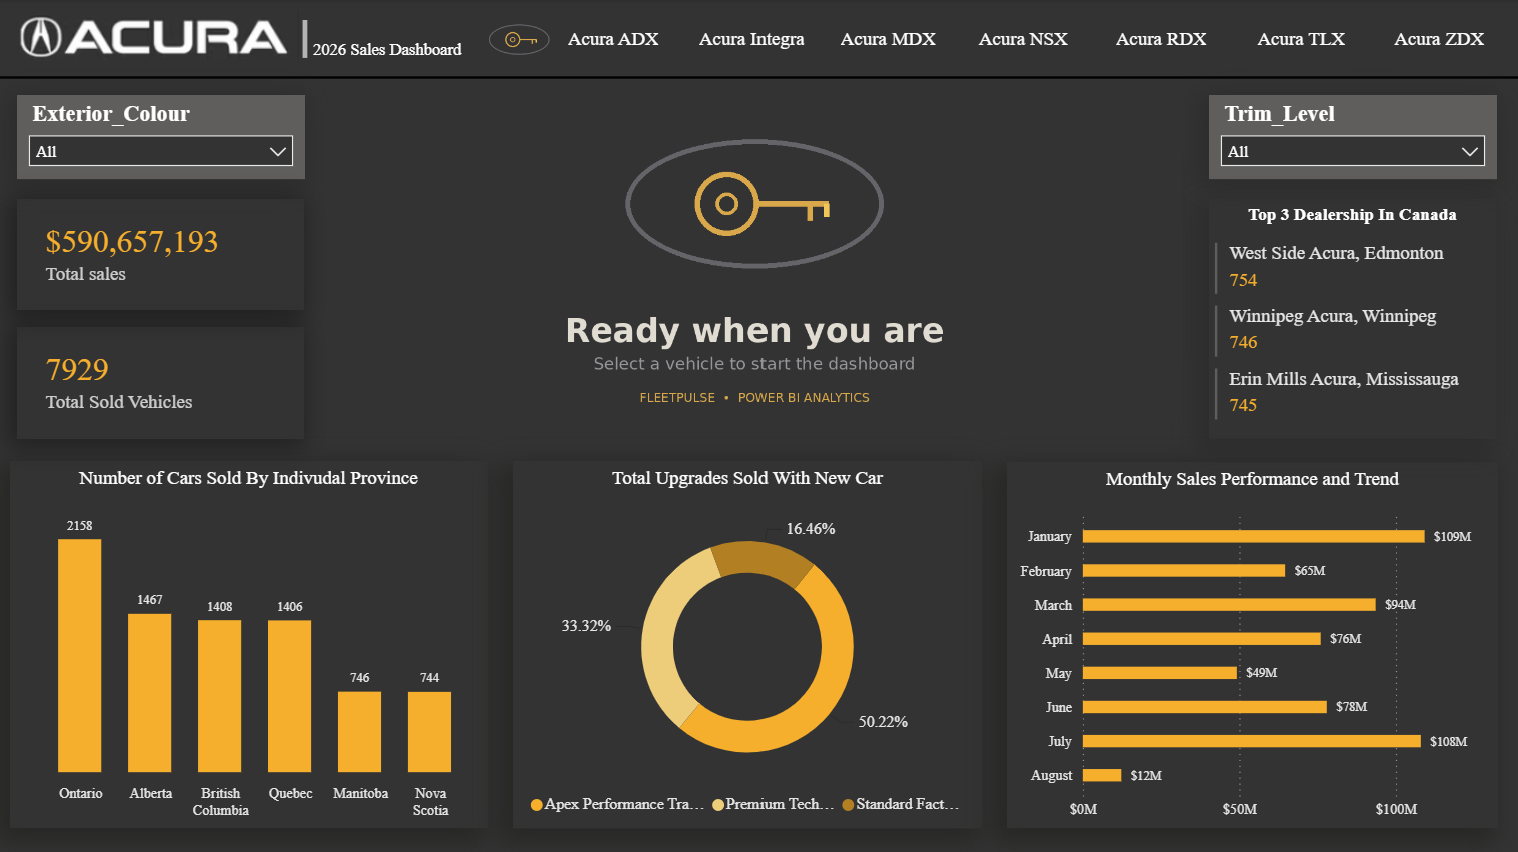

The page's visual inventory and layout, read from the dashboard file:
{"tool":"powerbi","page":{"name":"Page 1","canvas":[1280,720],"ordinal":0},"visuals":[{"type":"actionButton","box":[467.3,12.3,100,40],"z":0,"group":"g1"},{"type":"shape","box":[0,59.3,1280,12.6],"z":0},{"type":"image","box":[0,1,251.9,63.2],"z":1000},{"type":"actionButton","box":[583.8,12.3,100,39.8],"z":1000,"group":"g1"},{"type":"actionButton","box":[698.3,12.3,100,39.8],"z":2000,"group":"g1"},{"type":"shape","box":[248,16.5,18.5,32.1],"z":2000},{"type":"actionButton","box":[812.8,12.3,100,39.8],"z":3000,"group":"g1"},{"type":"textbox","box":[258.9,27.4,144.6,29.3],"z":3000},{"type":"advancedSlicerVisual","fields":{"Values":["Sales_Data_Master.Model"]},"box":[1262.8,0,17.2,12.5],"z":4000},{"type":"actionButton","box":[929.2,12.3,100,39.8],"z":4000,"group":"g1"},{"type":"actionButton","box":[1046.6,12.3,100,39.8],"z":5000,"group":"g1"},{"type":"cardVisual","title":"6","fields":{"Data":["Sales_Data_Master.Total Sold Vehicles"]},"box":[14.6,275.6,242.3,93.8],"z":5000},{"type":"actionButton","box":[1163.1,12.3,100,39.8],"z":6000,"group":"g1"},{"type":"slicer","fields":{"Values":["Sales_Data_Master.Exterior_Colour"]},"box":[14.6,80.5,242.7,71.2],"z":6000},{"type":"slicer","fields":{"Values":["Sales_Data_Master.Trim_Level"]},"box":[1019.5,80.2,242.7,71.2],"z":7000},{"type":"columnChart","title":"Number of Cars Sold By Indivudal Province","fields":{"Category":["Sales_Data_Master.Province"],"Y":["Sales_Data_Master.Total Sold Vehicles"]},"box":[8.7,388.2,402.7,309.6],"z":8000},{"type":"donutChart","title":"Total Upgrades Sold With New Car","fields":{"Category":["Sales_Data_Master.Upgrades_Package_Selected (groups) (groups) (groups)"],"Y":["Sales_Data_Master.Total Sold Vehicles"]},"box":[432.9,387.9,394.7,309.7],"z":9000},{"type":"multiRowCard","title":"Top 3 Dealership In Canada","fields":{"Values":["Sales_Data_Master.Total Sold Vehicles","Sales_Data_Master.Dealership"]},"box":[1019.1,168.1,242.3,202.3],"z":10000},{"type":"textbox","box":[550.1,142.7,437.3,144.9],"z":11000},{"type":"cardVisual","fields":{"Data":["model_visual.Foolproof_Car_Image"]},"box":[257.2,66,516.3,323.2],"z":12000},{"type":"cardVisual","fields":{"Data":["model_visual.Master_Home_Images"]},"box":[266.9,76.7,739.5,283.4],"z":13000},{"type":"cardVisual","title":"6","fields":{"Data":["Sales_Data_Master.Total sales"]},"box":[14.6,167.9,242.3,93.8],"z":14000},{"type":"cardVisual","title":"6","fields":{"Data":["Min(Sales_Data_Master.Model_type)","Min(Sales_Data_Master.Base_MSRP_CAD)"]},"box":[742.4,233.9,239.7,47.6],"z":15000},{"type":"group","id":"g1","title":"Group 1","box":[467.3,12.3,795.3,40],"z":16000},{"type":"image","box":[410.1,10.9,56.1,46.2],"z":17000},{"type":"shape","box":[707.1,53.7,85.3,14.4],"z":18000},{"type":"shape","box":[475.2,53.7,85.3,14.4],"z":19000},{"type":"shape","box":[938,53.7,85.3,14.4],"z":20000},{"type":"shape","box":[592.1,53.7,85.3,14.4],"z":21000},{"type":"shape","box":[1171.7,53.7,85.3,14.4],"z":22000},{"type":"shape","box":[1055.8,53.7,85.3,14.4],"z":23000},{"type":"shape","box":[822,53.7,85.3,14.4],"z":24000},{"type":"barChart","title":"Monthly Sales Performance and Trend","fields":{"Category":["Sales_Data_Master.Sale_Date.Variation.Date Hierarchy.Month"],"Y":["Sales_Data_Master.Total sales"]},"box":[848.8,389,414.3,308.8],"z":25000}]}

Visuals, with their boxes in screenshot pixels (x1, y1, x2, y2), scaled from the page's 1280x720 canvas onto the 1518x852 screenshot:
actionButton: x1=554 y1=15 x2=673 y2=62
shape: x1=0 y1=70 x2=1517 y2=85
image: x1=0 y1=1 x2=299 y2=76
actionButton: x1=692 y1=15 x2=811 y2=62
actionButton: x1=828 y1=15 x2=947 y2=62
shape: x1=294 y1=20 x2=316 y2=58
actionButton: x1=964 y1=15 x2=1083 y2=62
textbox: x1=307 y1=32 x2=479 y2=67
advancedSlicerVisual - Sales_Data_Master.Model: x1=1498 y1=0 x2=1517 y2=15
actionButton: x1=1102 y1=15 x2=1221 y2=62
actionButton: x1=1241 y1=15 x2=1360 y2=62
"6" cardVisual: x1=17 y1=326 x2=305 y2=437
actionButton: x1=1379 y1=15 x2=1498 y2=62
slicer - Sales_Data_Master.Exterior_Colour: x1=17 y1=95 x2=305 y2=180
slicer - Sales_Data_Master.Trim_Level: x1=1209 y1=95 x2=1497 y2=179
"Number of Cars Sold By Indivudal Province" columnChart: x1=10 y1=459 x2=488 y2=826
"Total Upgrades Sold With New Car" donutChart: x1=513 y1=459 x2=981 y2=825
"Top 3 Dealership In Canada" multiRowCard: x1=1209 y1=199 x2=1496 y2=438
textbox: x1=652 y1=169 x2=1171 y2=340
cardVisual - model_visual.Foolproof_Car_Image: x1=305 y1=78 x2=917 y2=461
cardVisual - model_visual.Master_Home_Images: x1=317 y1=91 x2=1194 y2=426
"6" cardVisual: x1=17 y1=199 x2=305 y2=310
"6" cardVisual: x1=880 y1=277 x2=1165 y2=333
"Group 1" group: x1=554 y1=15 x2=1497 y2=62
image: x1=486 y1=13 x2=553 y2=68
shape: x1=839 y1=64 x2=940 y2=81
shape: x1=564 y1=64 x2=665 y2=81
shape: x1=1112 y1=64 x2=1214 y2=81
shape: x1=702 y1=64 x2=803 y2=81
shape: x1=1390 y1=64 x2=1491 y2=81
shape: x1=1252 y1=64 x2=1353 y2=81
shape: x1=975 y1=64 x2=1076 y2=81
"Monthly Sales Performance and Trend" barChart: x1=1007 y1=460 x2=1498 y2=826
